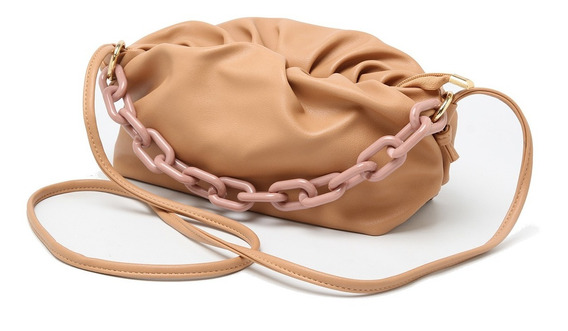cartera: (83, 12, 464, 238)
